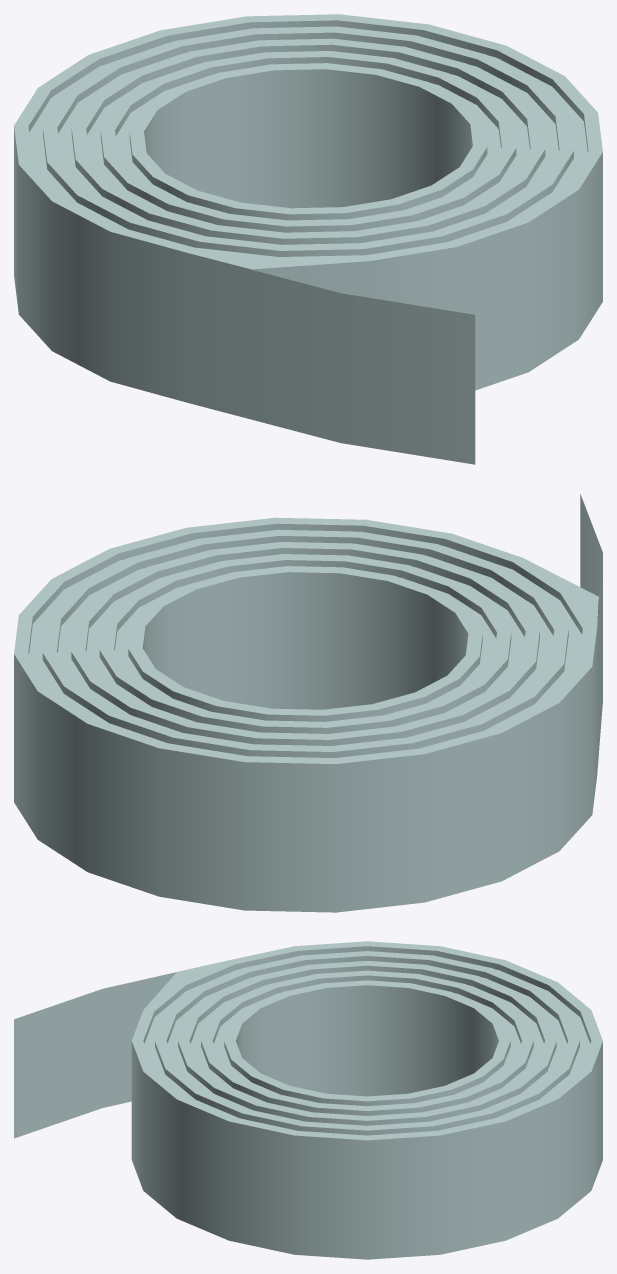
The model's file is scotch_Tabe.fbx.
The picture shows the model from 3 angles, top to bottom: view 1: azimuth 30°, elevation 25°; view 2: azimuth 150°, elevation 25°; view 3: azimuth 270°, elevation 25°; orthographic projection. The views are drawn at different scales.
Parts seen in each view (by area): view 1: Scotch_Tabe; view 2: Scotch_Tabe; view 3: Scotch_Tabe.
Boxes of the visible parts, bbox=[...] form: Scotch_Tabe: bbox=[14, 14, 602, 464]; Scotch_Tabe: bbox=[14, 494, 602, 912]; Scotch_Tabe: bbox=[14, 941, 602, 1259].
Bounding box in the file's own units: 2.22 × 0.6199 × 2.77.
